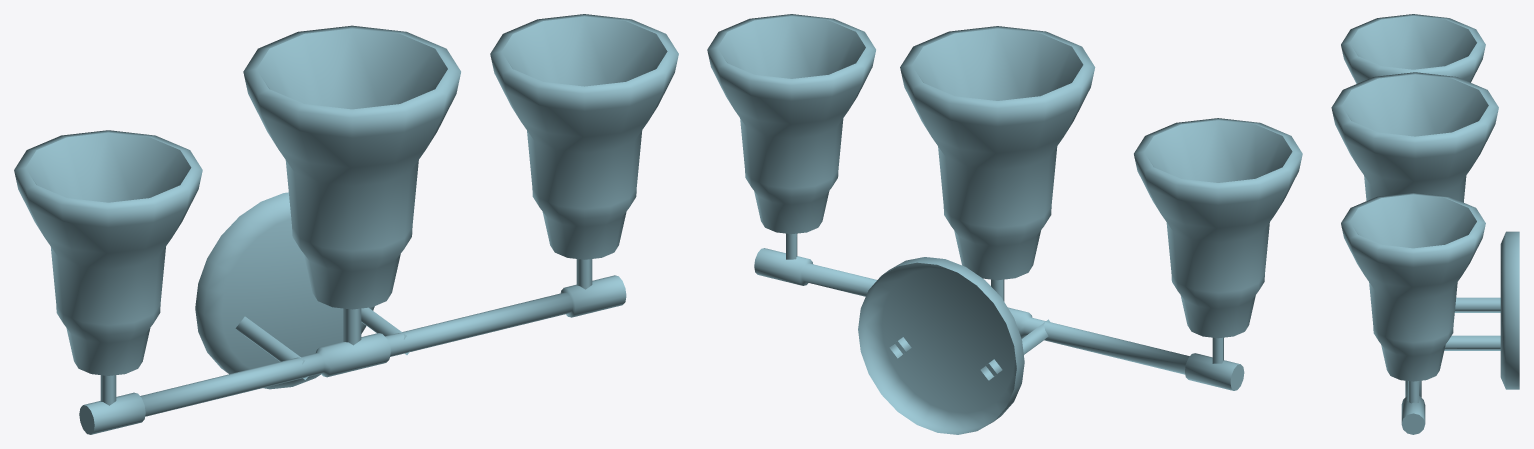
File: lo_Prop_Lamp_E.fbx
3 renders of one model, left to right at view 1: azimuth 30°, elevation 25°; view 2: azimuth 150°, elevation 25°; view 3: azimuth 270°, elevation 25°, orthographic. The views are drawn at different scales.
Visible parts, largest first — view 1: lo_Prop_Lamp_E_LOD0; view 2: lo_Prop_Lamp_E_LOD0; view 3: lo_Prop_Lamp_E_LOD0.
Boxes of the visible parts, x1,y1,x2,y2 form: lo_Prop_Lamp_E_LOD0: (14, 14, 678, 434); lo_Prop_Lamp_E_LOD0: (707, 14, 1302, 434); lo_Prop_Lamp_E_LOD0: (1331, 14, 1519, 434).
Size of what is drawn, in the model's own units: 1.01 by 0.5435 by 0.3338.
